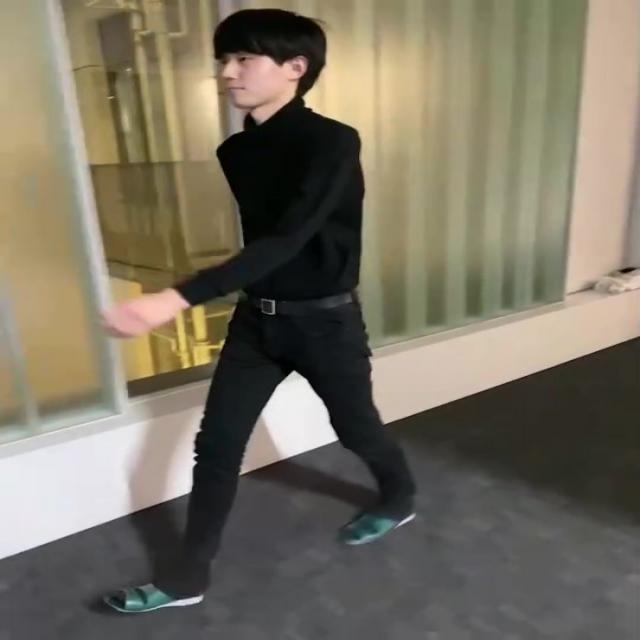direk: (88, 9, 424, 618)
